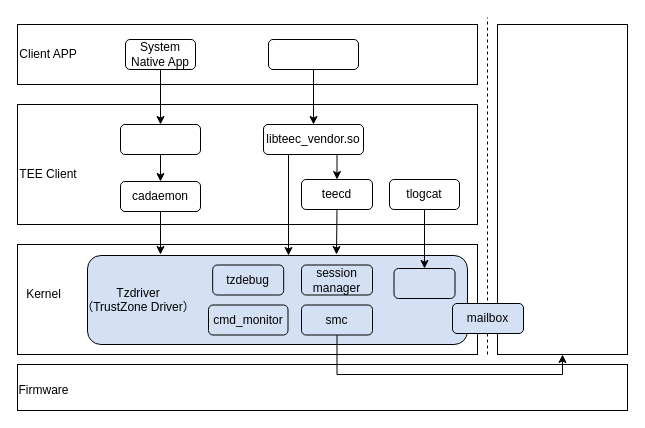
This 645x428 diagram has some shape labels left out. The box of each missing label's shape, as (x1, y1, x2, y2) in pixels:
libteec.so: (120, 124, 200, 154)
Secure Monitor: (16, 364, 628, 410)
TEE: (496, 24, 628, 354)
tlogger: (393, 268, 455, 298)
Vendor Native App: (268, 38, 358, 70)
